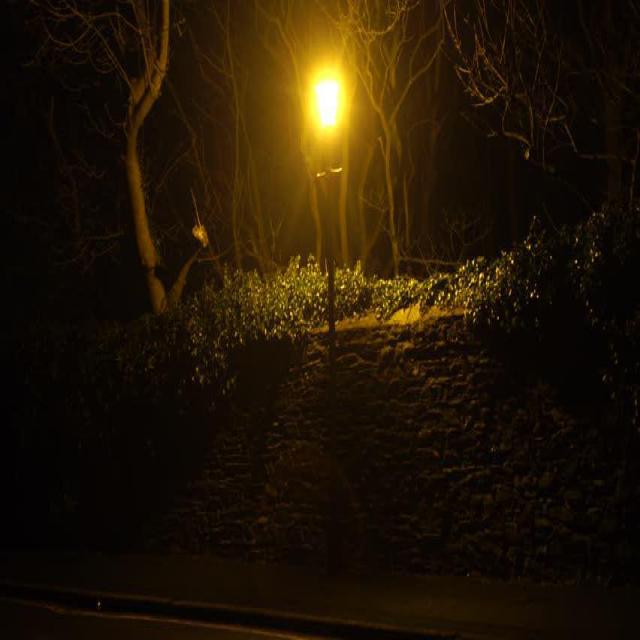other: (301, 60, 354, 140)
